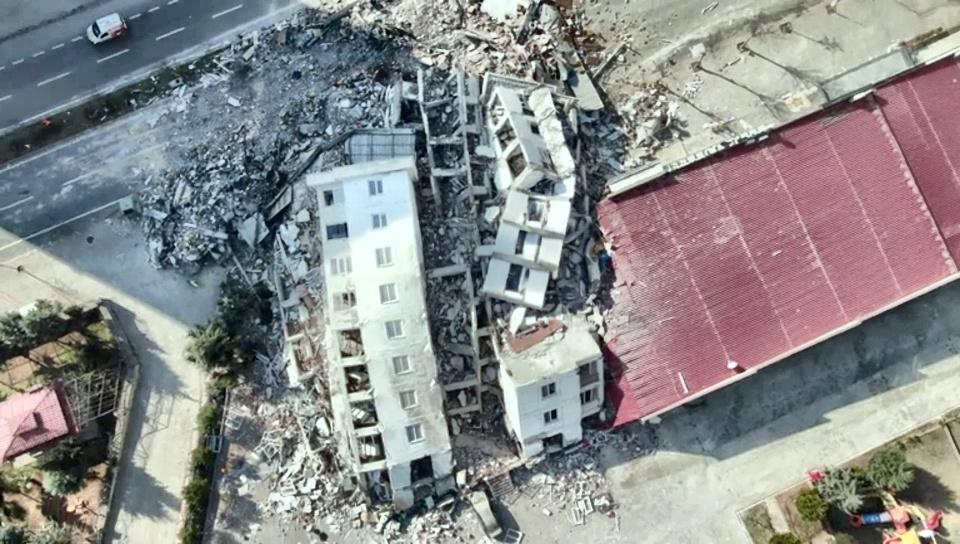kapali: (45, 0, 606, 221)
